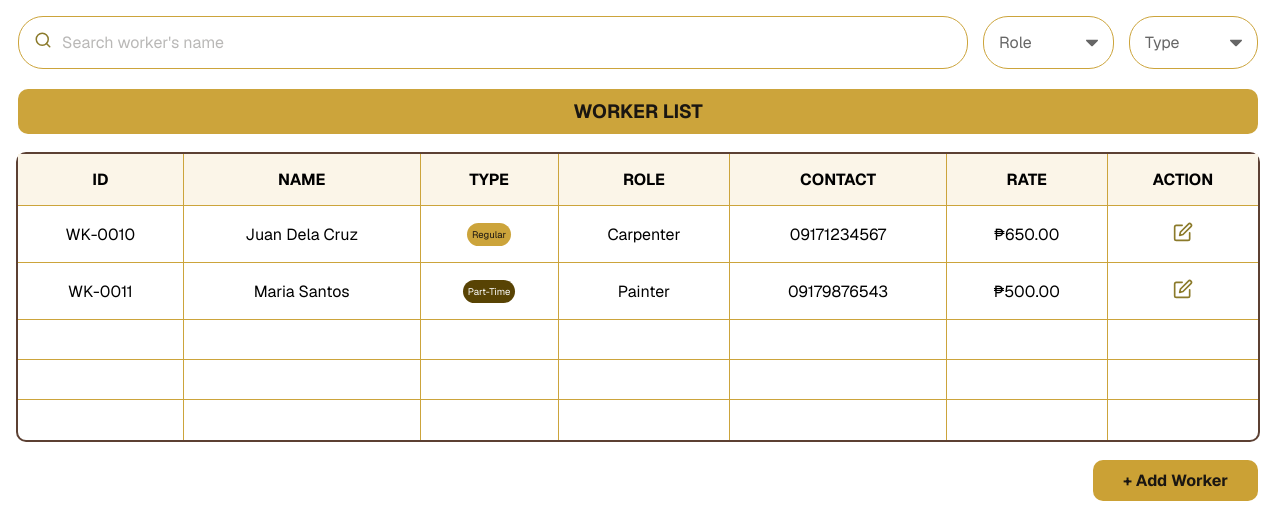
Test case: WorkerList › filters by search term, matching either the name or the formatted id
The width and height of the screenshot is (1277, 518).
Expected: the text "Juan Dela Cruz" is shown, [183,206,420,262]
Type "maria" into the field with placeholder "Search worker's name". click: (502, 42)
box: [52,22,952,63]
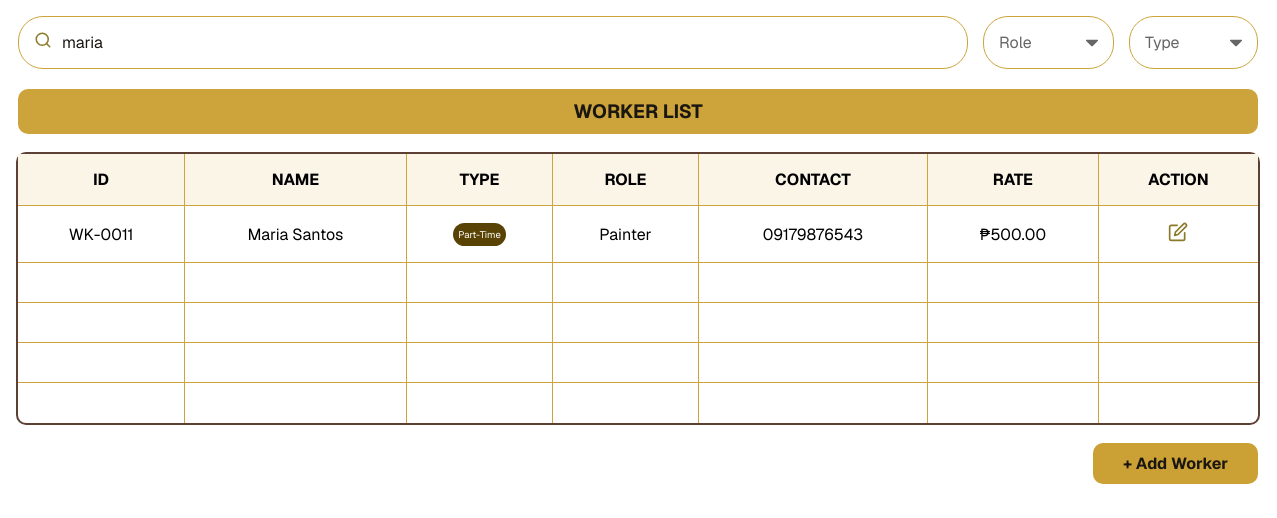
Result: the text "Juan Dela Cruz" is gone
Result: the text "Maria Santos" is shown at [184,206,406,262]
Replace the text in the field with placeholder "Search worker's name" with "WK-0010". click: (502, 42)
box: [52,22,952,63]
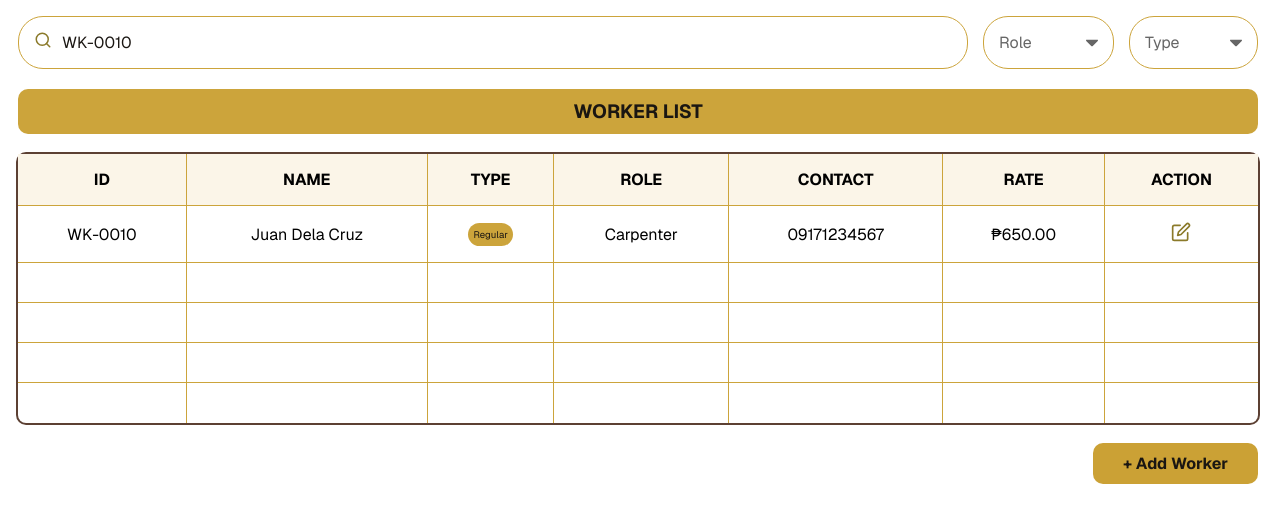
Result: the text "Juan Dela Cruz" is shown at [186,206,427,262]
Result: the text "Maria Santos" is gone
